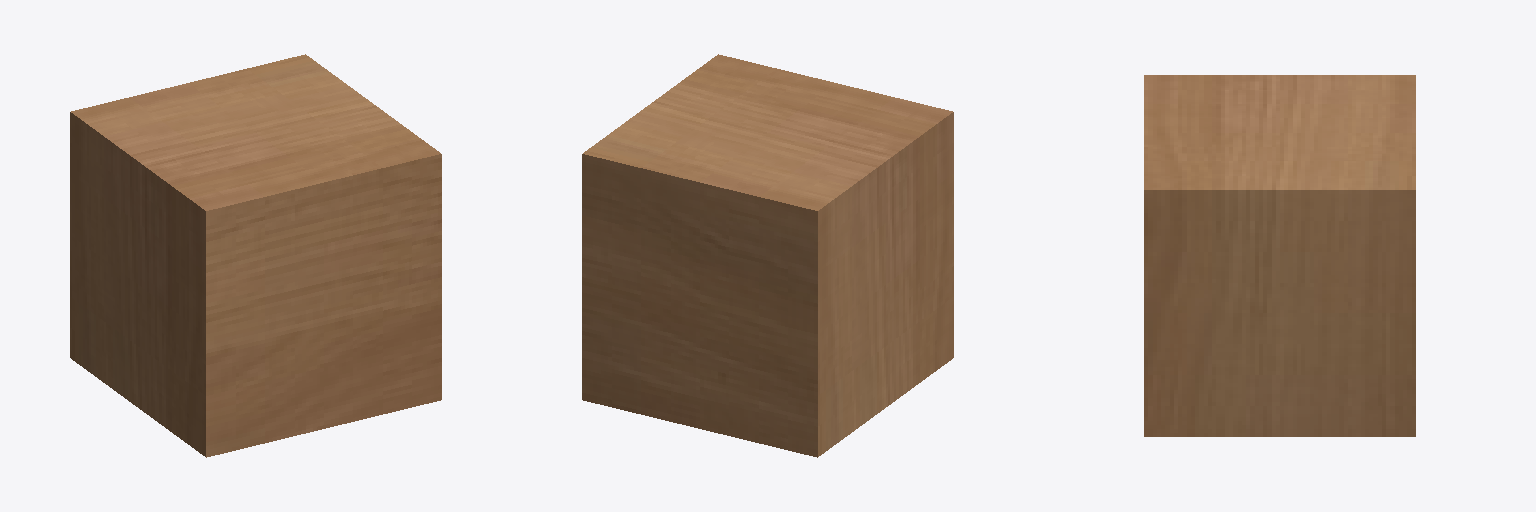
3 renders of one model, left to right at view 1: azimuth 30°, elevation 25°; view 2: azimuth 150°, elevation 25°; view 3: azimuth 270°, elevation 25°, orthographic.
Parts seen in each view (by area): view 1: Cube; view 2: Cube; view 3: Cube.
Boxes of the visible parts, <box> form: Cube: <box>70,54,441,457</box>; Cube: <box>582,54,953,457</box>; Cube: <box>1144,75,1415,436</box>.
Bounding box in the file's own units: 0.05 × 0.05 × 0.05.
1 materials, 1 textured.